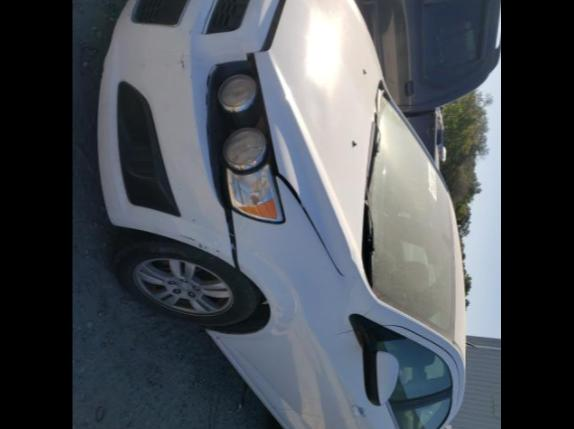Broken part: (246, 0, 336, 262), (203, 57, 248, 268)
Scratch: (178, 52, 206, 70), (180, 234, 196, 242), (188, 27, 194, 34), (204, 244, 208, 250), (198, 242, 202, 247), (216, 248, 220, 252), (192, 218, 196, 222), (188, 74, 192, 78)
